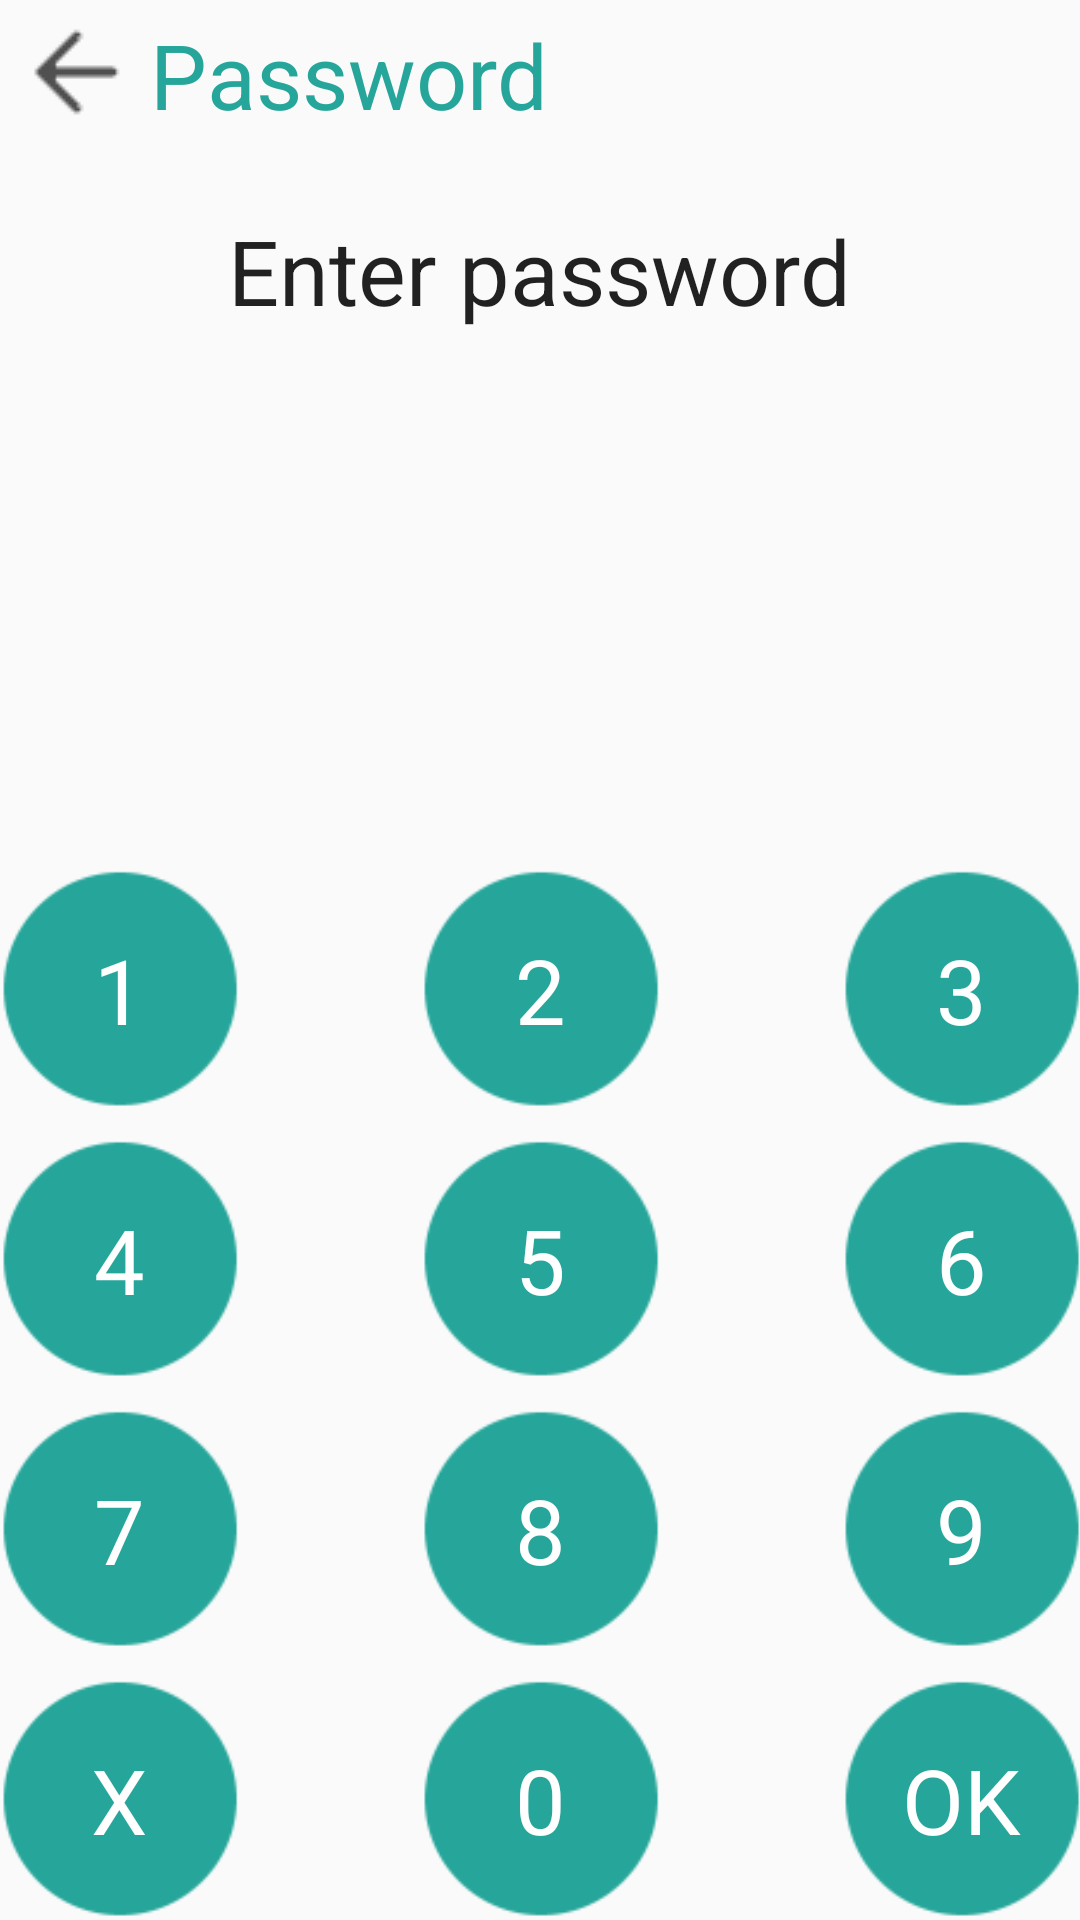

Named icons in this screenshot (1080x1920) and their centers, [x,y]:
back: [76,72]
